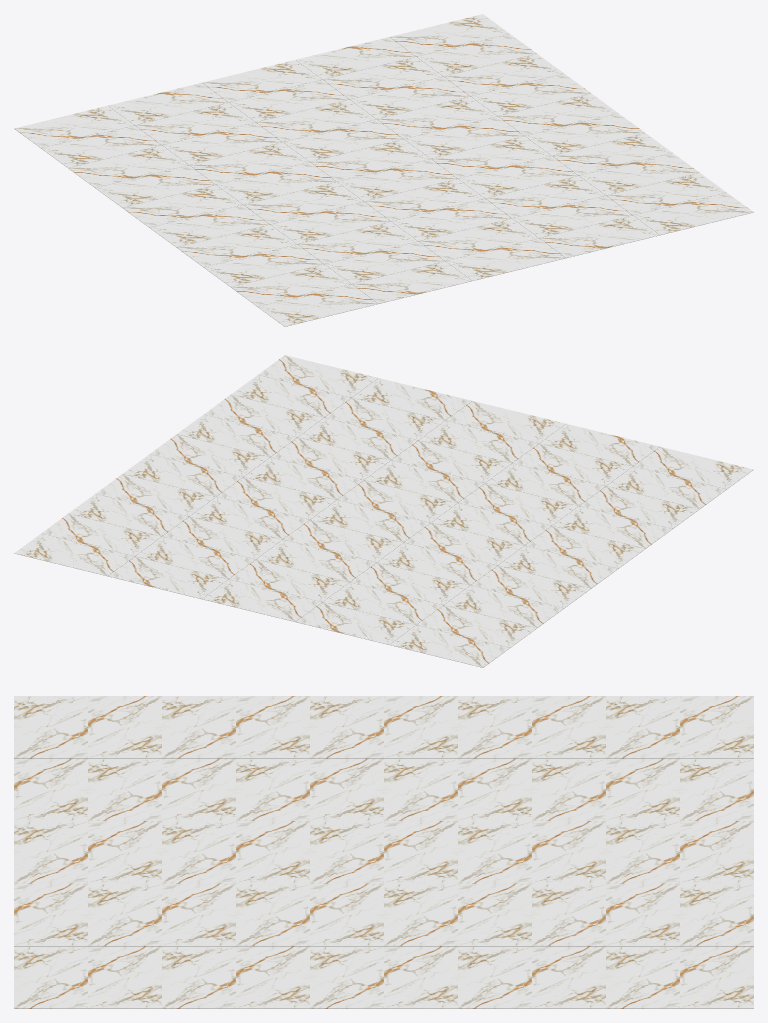
File: opaline-80x160.glb
3 views of the same model, one above another, from view 1: azimuth 30°, elevation 25°; view 2: azimuth 150°, elevation 25°; view 3: azimuth 270°, elevation 25° (orthographic). The views are drawn at different scales.
Visible parts, largest first — view 1: Opaline; view 2: Opaline; view 3: Opaline.
Boxes of the visible parts, x1=… form: Opaline: x1=14, y1=14, x2=753, y2=326; Opaline: x1=14, y1=355, x2=753, y2=667; Opaline: x1=14, y1=696, x2=753, y2=1008.
Size of the model in its own units: 8 by 0.003 by 8.
Materials: 2 (1 with a texture image).
